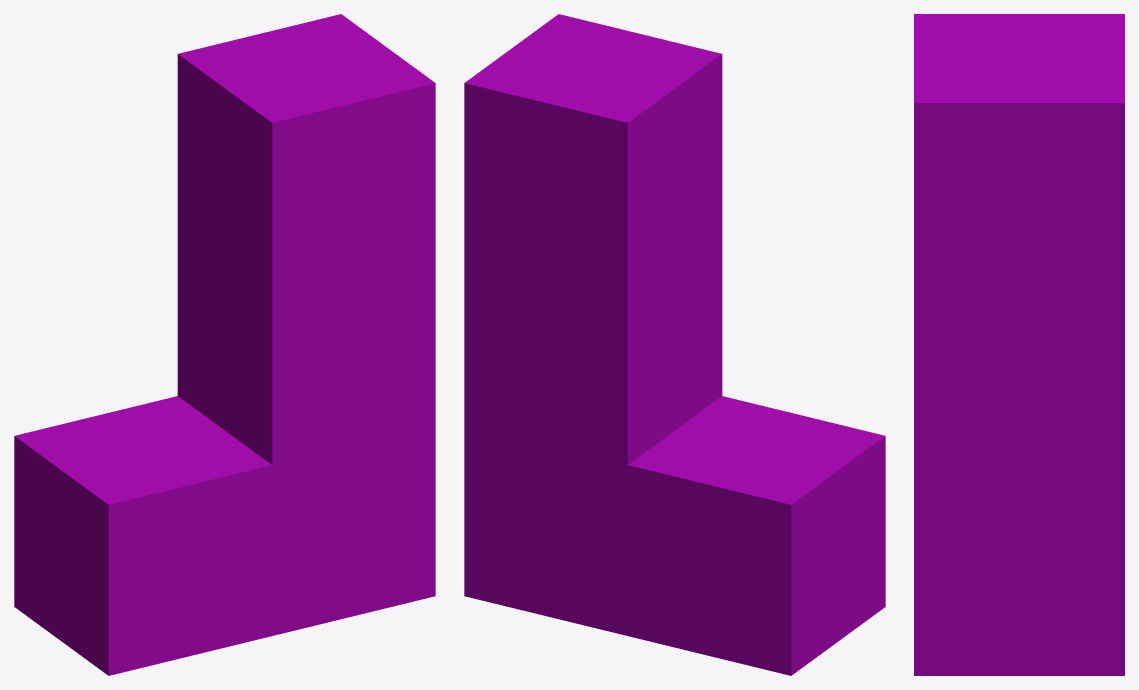
File: Block_LR.fbx
The picture shows the model from 3 angles, left to right: view 1: azimuth 30°, elevation 25°; view 2: azimuth 150°, elevation 25°; view 3: azimuth 270°, elevation 25°; orthographic projection. The views are drawn at different scales.
Parts seen in each view (by area): view 1: pCube7; view 2: pCube7; view 3: pCube7.
Part boxes in pixels (box(x1,y1,x2,y2)): pCube7: box(14, 14, 435, 675); pCube7: box(464, 14, 885, 675); pCube7: box(914, 14, 1124, 675).
Bounding box in the file's own units: 2 × 3 × 1.
